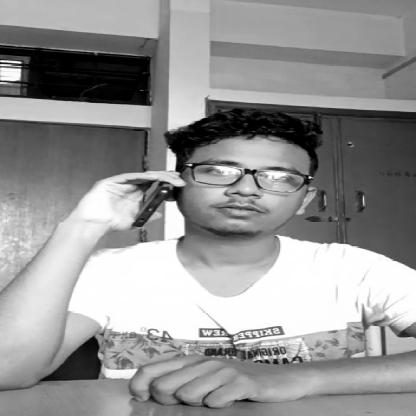Normal: (181, 118, 298, 225)
